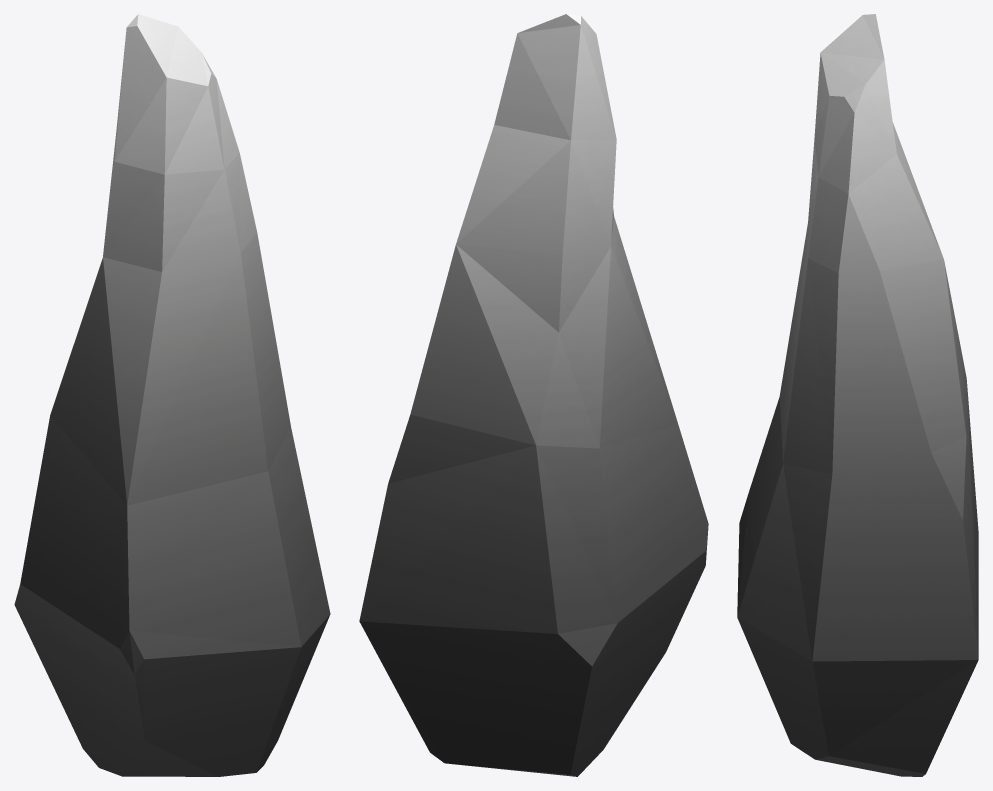
The model's file is CrystalShard_H.fbx.
3 renders of one model, left to right at view 1: azimuth 30°, elevation 25°; view 2: azimuth 150°, elevation 25°; view 3: azimuth 270°, elevation 25°, orthographic. The views are drawn at different scales.
Parts seen in each view (by area): view 1: CrystalShard_H; view 2: CrystalShard_H; view 3: CrystalShard_H.
Boxes of the visible parts, x1=… form: CrystalShard_H: x1=14, y1=14, x2=330, y2=776; CrystalShard_H: x1=359, y1=14, x2=708, y2=776; CrystalShard_H: x1=737, y1=14, x2=978, y2=776.
Size of the model in its own units: 92.81 by 281 by 85.07.
1 material, 1 textured.
